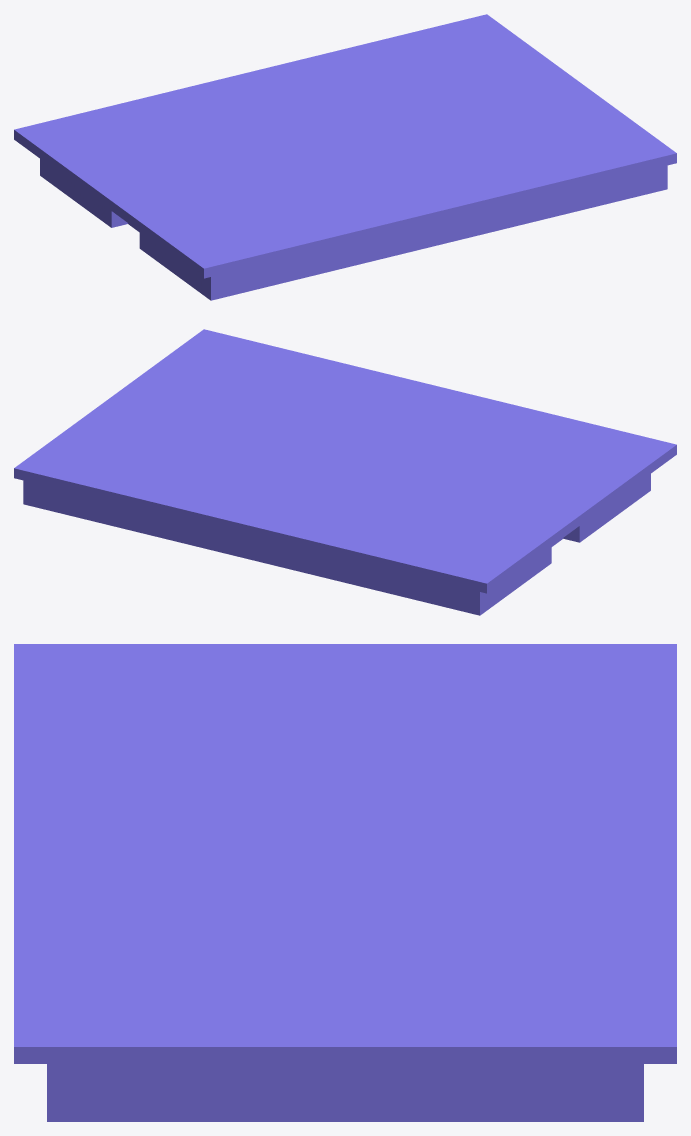
Rendered from 1stFloor.fbx.
The picture shows the model from 3 angles, top to bottom: view 1: azimuth 30°, elevation 25°; view 2: azimuth 150°, elevation 25°; view 3: azimuth 270°, elevation 25°; orthographic projection. The views are drawn at different scales.
Parts seen in each view (by area): view 1: 1st Level; view 2: 1st Level; view 3: 1st Level.
Part boxes in pixels (x1,y1,x2,y2): 1st Level: [14, 14, 676, 300]; 1st Level: [14, 329, 676, 615]; 1st Level: [14, 644, 676, 1121].
Size of the model in its own units: 4528 by 3150 by 394.
